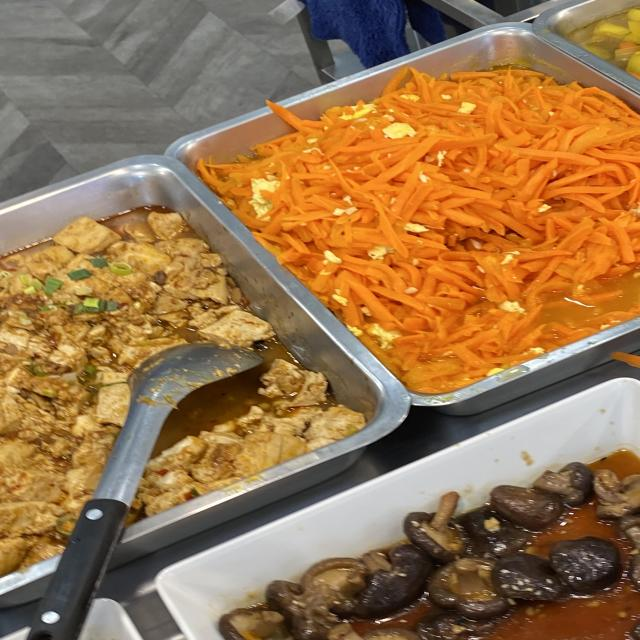Mapo Tofu: (9, 253, 188, 337)
Scrambled eggs with carrots: (324, 113, 619, 277)
